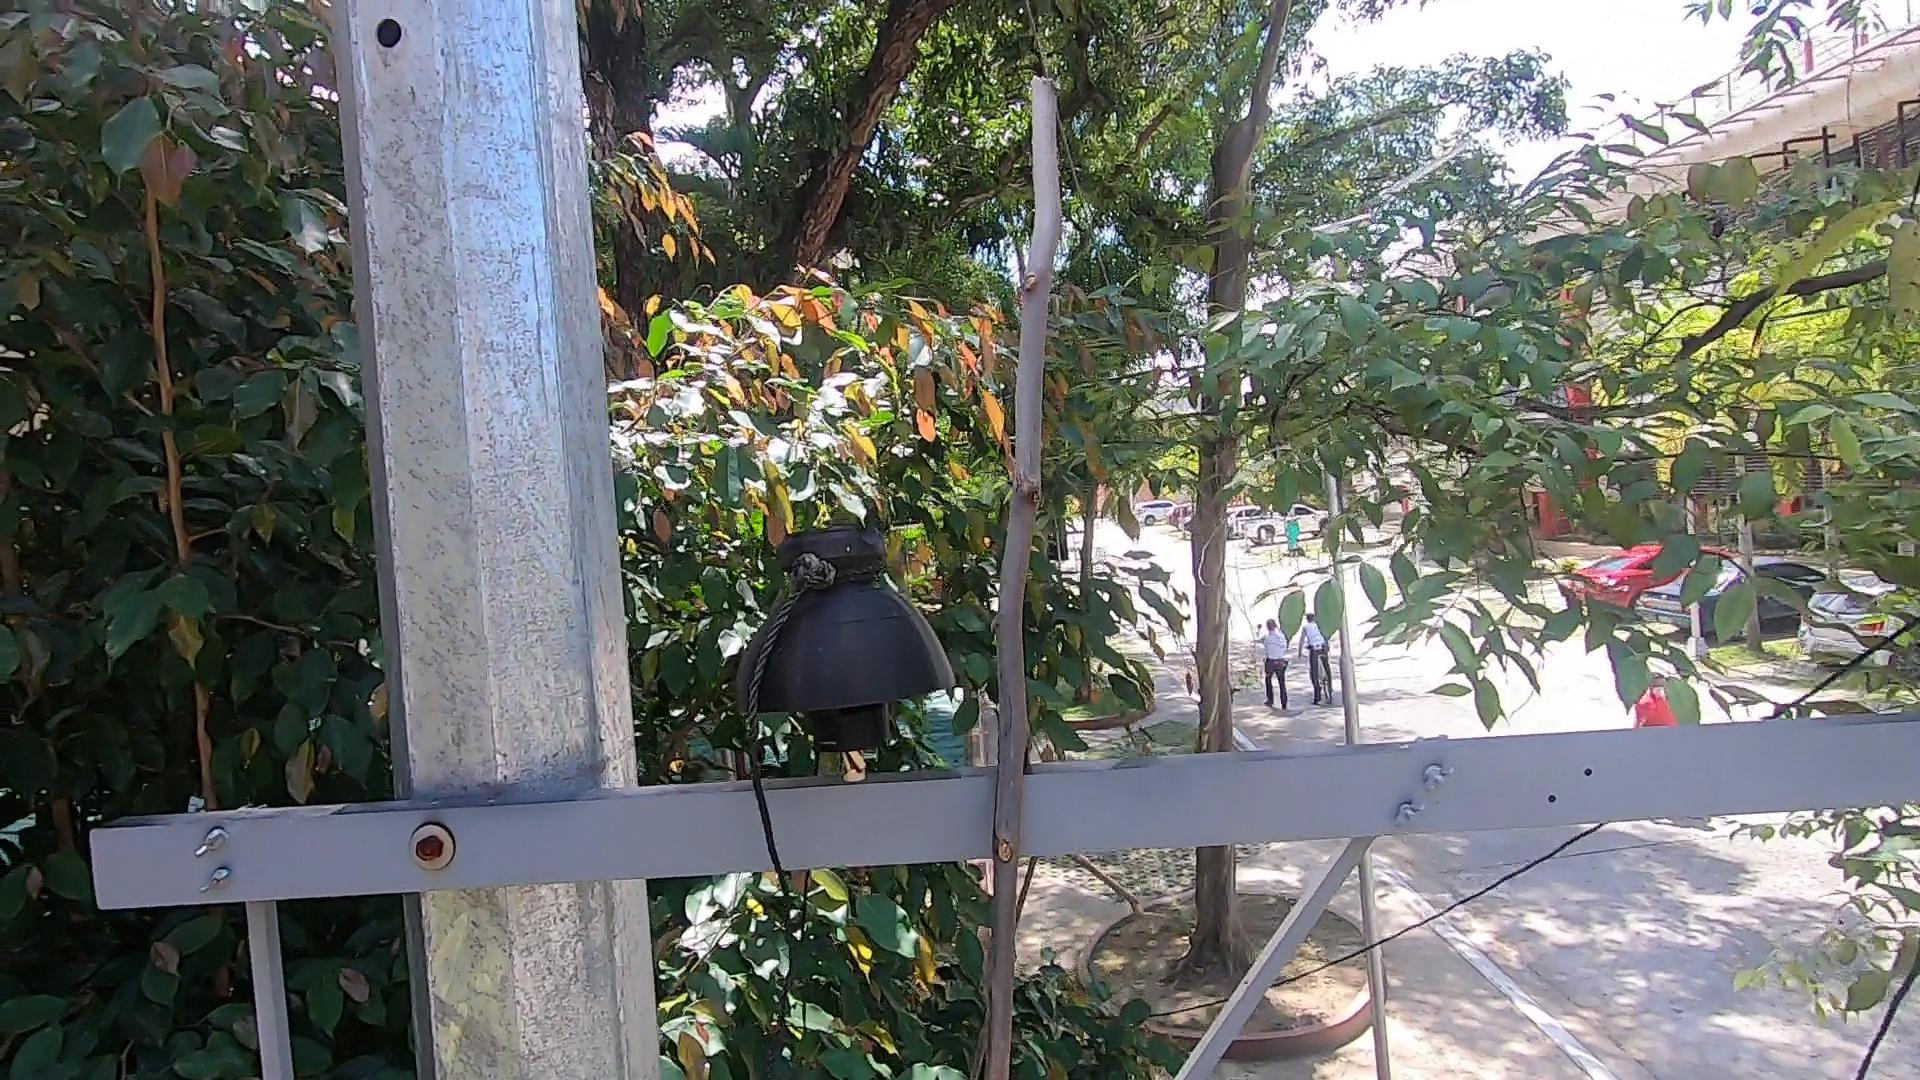tree branch: (927, 61, 1129, 1075)
